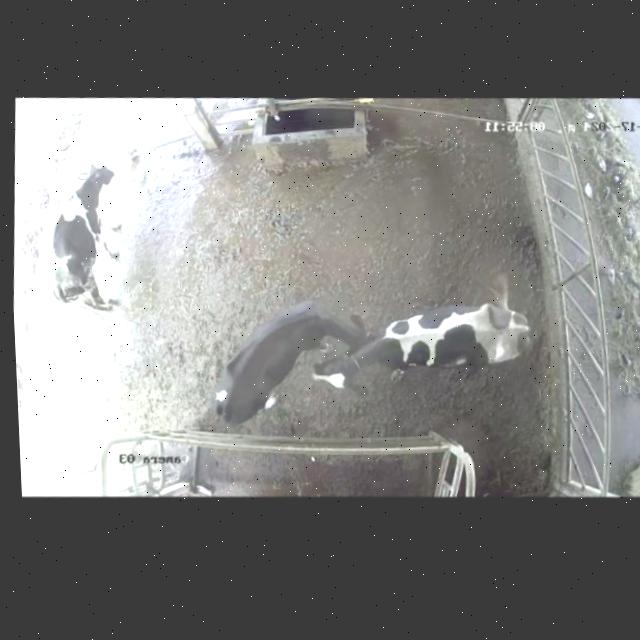stand: (311, 278, 545, 409), (199, 280, 382, 441), (34, 151, 145, 340)
